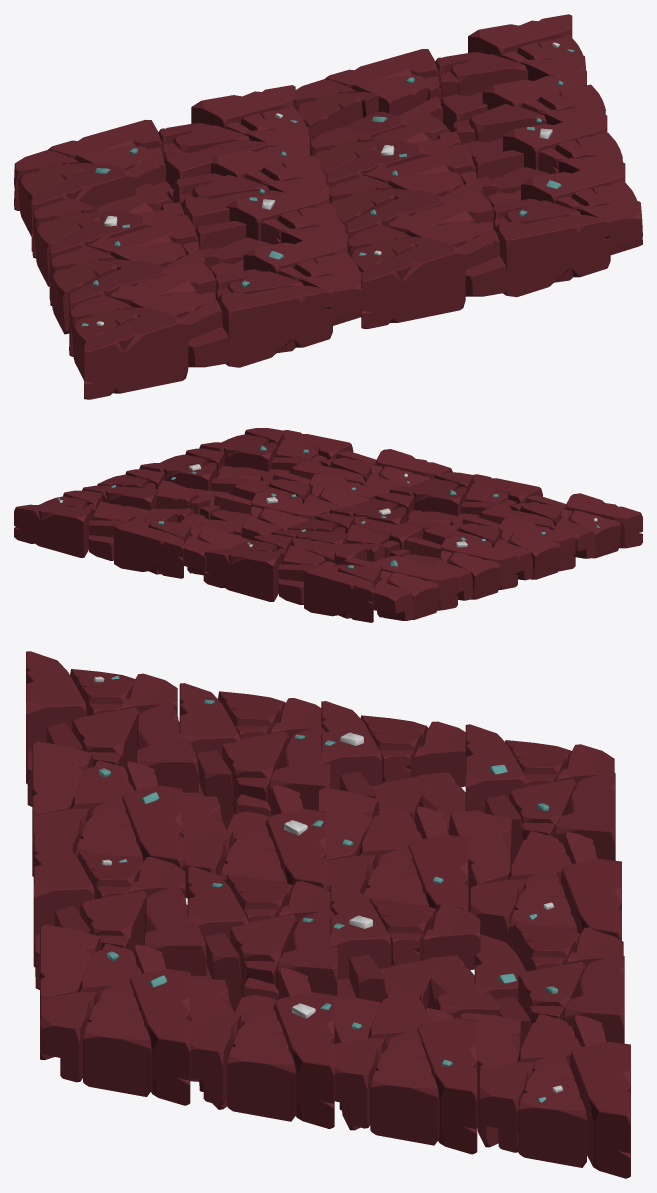
Rendered from Floor.fbx.
3 renders of one model, top to bottom at view 1: azimuth 30°, elevation 25°; view 2: azimuth 150°, elevation 25°; view 3: azimuth 270°, elevation 25°, orthographic. The views are drawn at different scales.
Parts seen in each view (by area): view 1: FloorTile; view 2: FloorTile; view 3: FloorTile.
Boxes of the visible parts, box(x1,y1,x2,y2) form: FloorTile: box(14, 14, 642, 399); FloorTile: box(14, 428, 642, 622); FloorTile: box(26, 651, 630, 1178).
Size of the model in its own units: 4181 by 463 by 2293.
